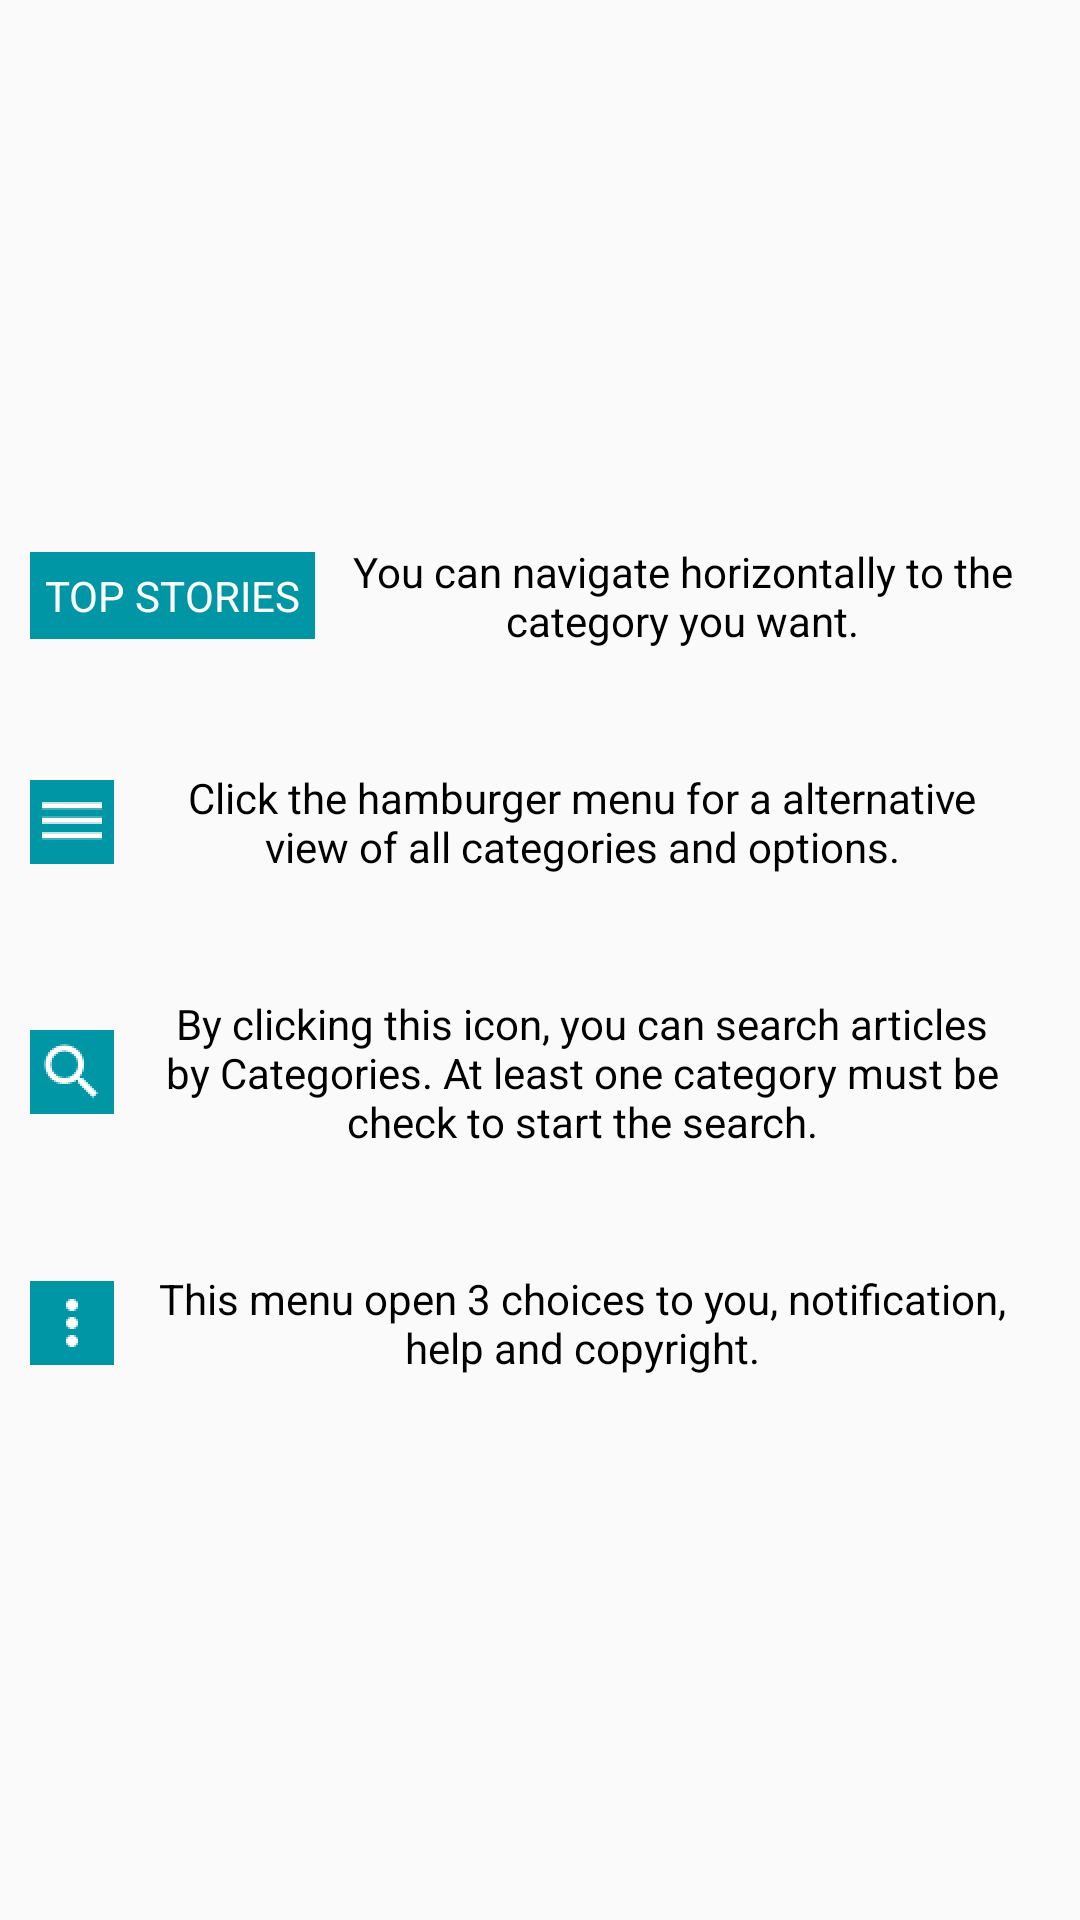

Icon bounding boxes for this 1080 × 1920 phone screenshot, format (x1, y1, x2, y2):
more: (30, 1281, 114, 1365)
